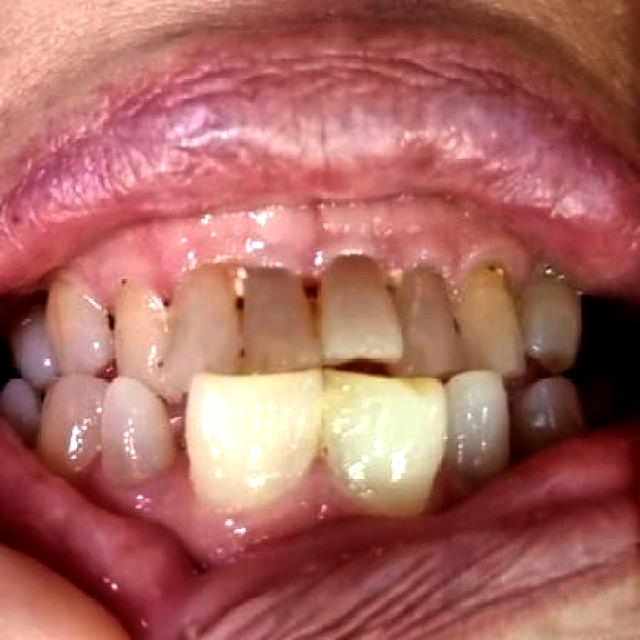Plaque: (166, 232, 428, 299)
